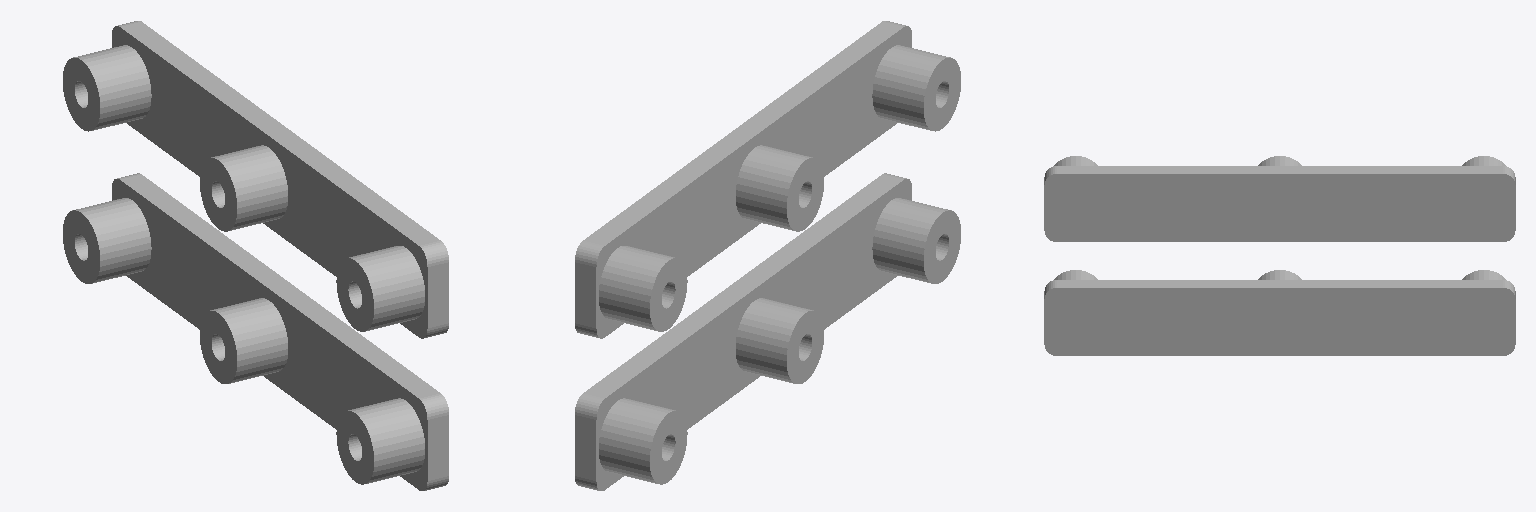
URDF robot description (root):
<?xml version='1.0' encoding='utf-8'?>
<robot name="root">
  <link name="link_001">
    <visual>
      <origin xyz="0 0 0" rpy="0 0 0" />
      <geometry>
        <mesh filename="4ce3fbb887e4c15f58c32c5664f1e6a7a74adf8ed89647f0edcb22eab4b740fb_scale_160.stl" scale="1.0000E+00 1.0000E+00 1.0000E+00" />
      </geometry>
      <material name="">
        <color rgba="7.50E-01 7.50E-01 7.50E-01 1" />
      </material>
    </visual>
    <collision>
      <origin xyz="0 0 0" rpy="0 0 0" />
      <geometry>
        <mesh filename="4ce3fbb887e4c15f58c32c5664f1e6a7a74adf8ed89647f0edcb22eab4b740fb_scale_160.stl" scale="1.0000E+00 1.0000E+00 1.0000E+00" />
      </geometry>
    </collision>
  </link>
</robot>

--- Facts derived from the render (not from the file) ---
The picture shows the robot from 3 angles, left to right: view 1: azimuth 30°, elevation 25°; view 2: azimuth 150°, elevation 25°; view 3: azimuth 270°, elevation 25°; orthographic projection.
Robot: root — 1 links, 0 joints (none); root link link_001; default pose: every joint at zero.
Links seen in each view (by area): view 1: link_001; view 2: link_001; view 3: link_001.
Link boxes in pixels (x1,y1,x2,y2): link_001: (63, 21, 448, 490); link_001: (575, 21, 960, 490); link_001: (1044, 156, 1515, 355).
Bounding box of the posed robot: 0.016 × 0.12 × 0.0512 m (x, y, z).
Meshes: 1 distinct files referenced, 1 mesh visuals loaded (1 binary STL).
